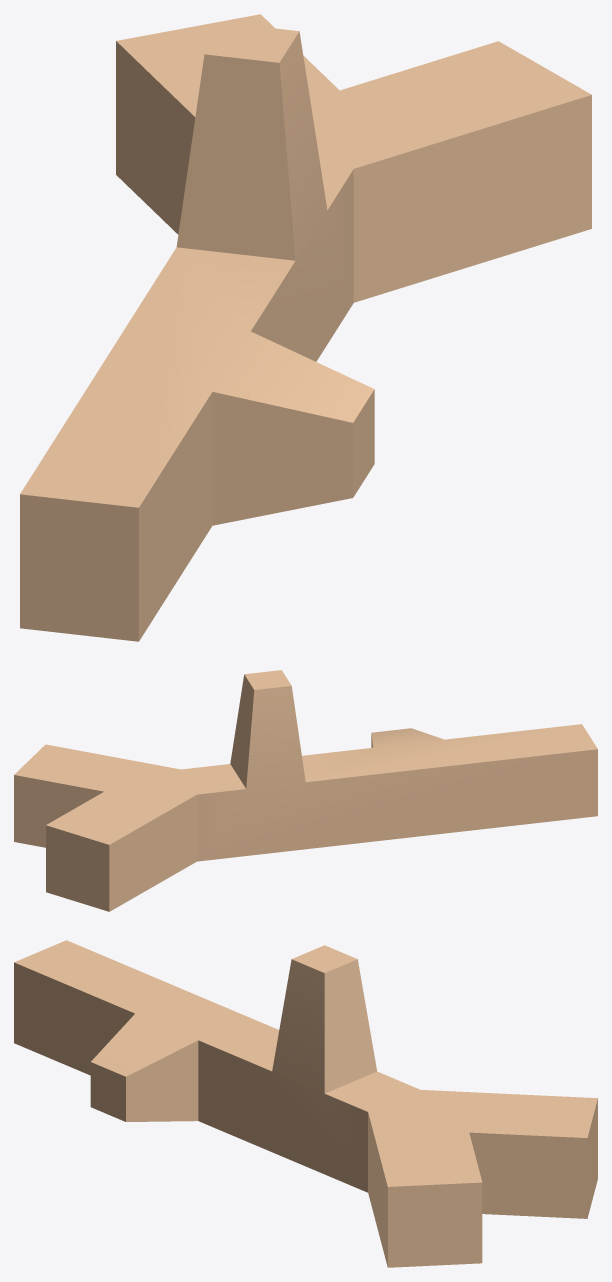
Rendered from resourceWood.glb.
3 renders of one model, top to bottom at view 1: azimuth 30°, elevation 25°; view 2: azimuth 150°, elevation 25°; view 3: azimuth 270°, elevation 25°, orthographic. The views are drawn at different scales.
Visible parts, largest first — view 1: resourceWood; view 2: resourceWood; view 3: resourceWood.
Part boxes in pixels (left/top/right/bottom): resourceWood: left=20, top=14, right=591, bottom=641; resourceWood: left=14, top=670, right=597, bottom=911; resourceWood: left=14, top=940, right=597, bottom=1267.
Bounding box in the file's own units: 0.6846 × 0.2497 × 0.6846.
